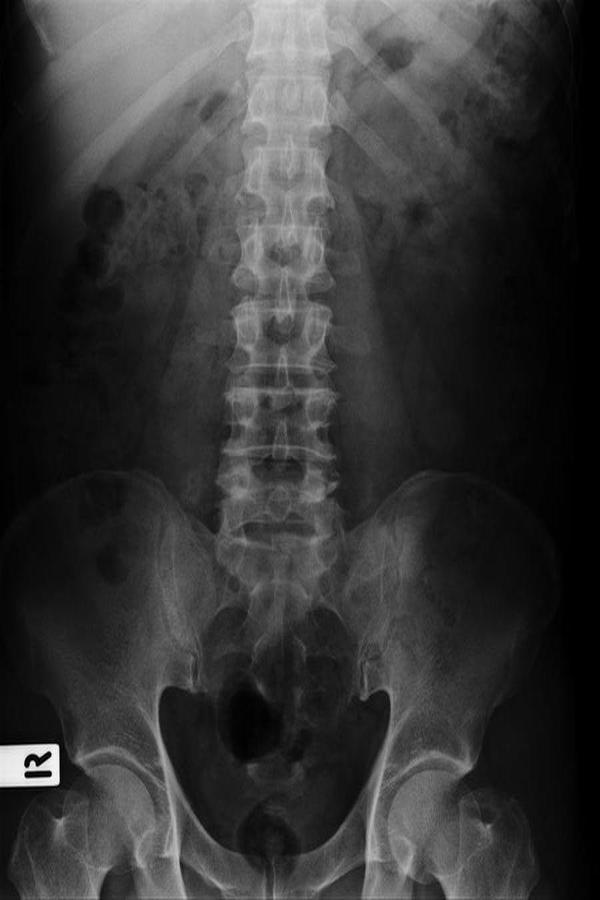lumbar scoliosis: (219, 9, 343, 562)
